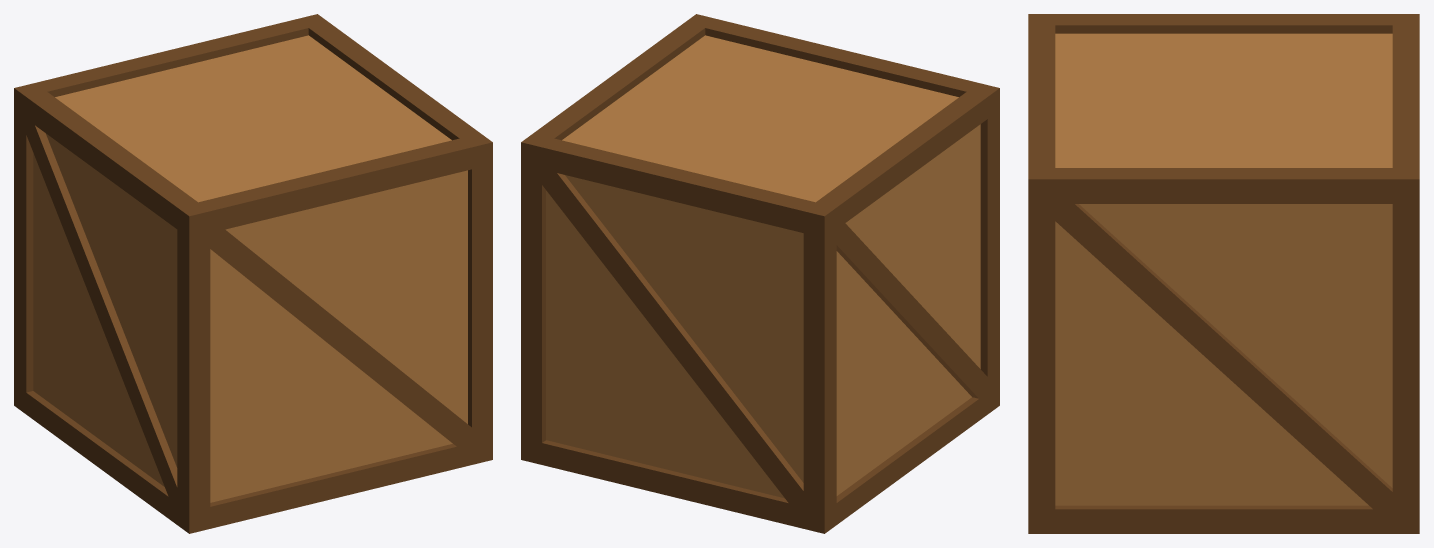
The model's file is crate.glb.
3 renders of one model, left to right at view 1: azimuth 30°, elevation 25°; view 2: azimuth 150°, elevation 25°; view 3: azimuth 270°, elevation 25°, orthographic. The views are drawn at different scales.
Visible parts, largest first — view 1: Crate; view 2: Crate; view 3: Crate.
Boxes of the visible parts, box(x1,y1,x2,y2) form: Crate: box(14, 14, 492, 533); Crate: box(521, 14, 999, 533); Crate: box(1028, 14, 1419, 533).
Size of the model in its own units: 1.3 by 1.3 by 1.3.
